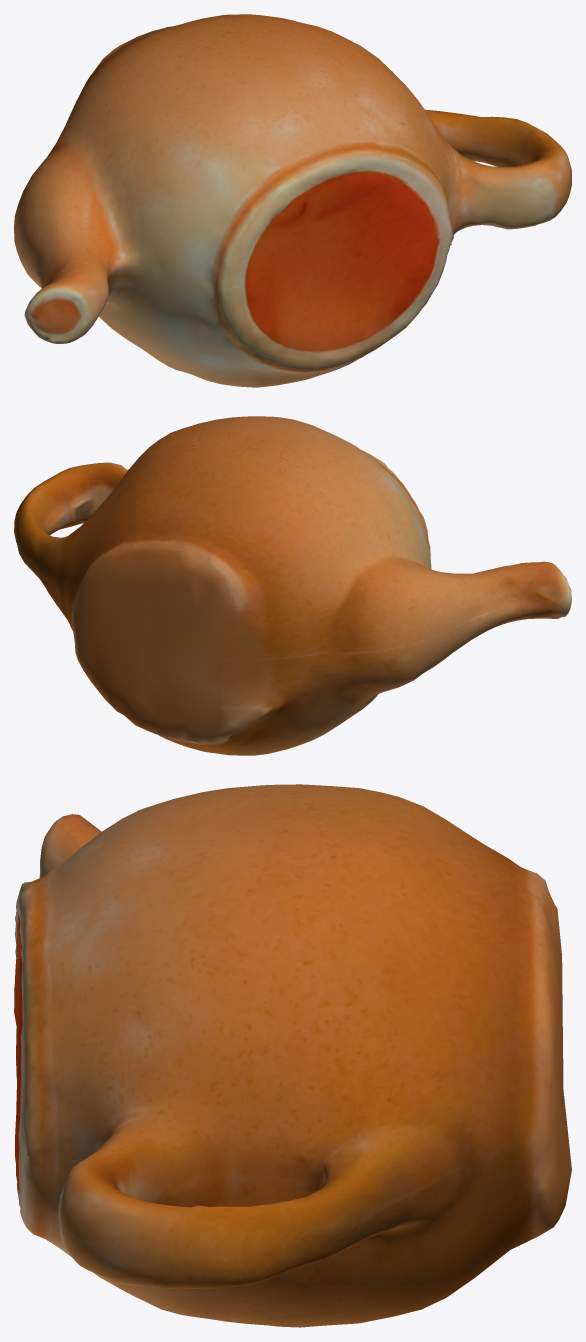
Rendered from teapot.obj.
3 views of the same model, one above another, from view 1: azimuth 30°, elevation 25°; view 2: azimuth 150°, elevation 25°; view 3: azimuth 270°, elevation 25° (orthographic). The views are drawn at different scales.
Visible parts, largest first — view 1: obj1; view 2: obj1; view 3: obj1.
Part boxes in pixels (x1,y1,x2,y2): obj1: [14, 14, 571, 387]; obj1: [14, 416, 571, 755]; obj1: [14, 784, 571, 1327].
Bounding box in the file's own units: 0.1676 × 0.0919 × 0.0961.
Materials: 1 (1 with a texture image).
